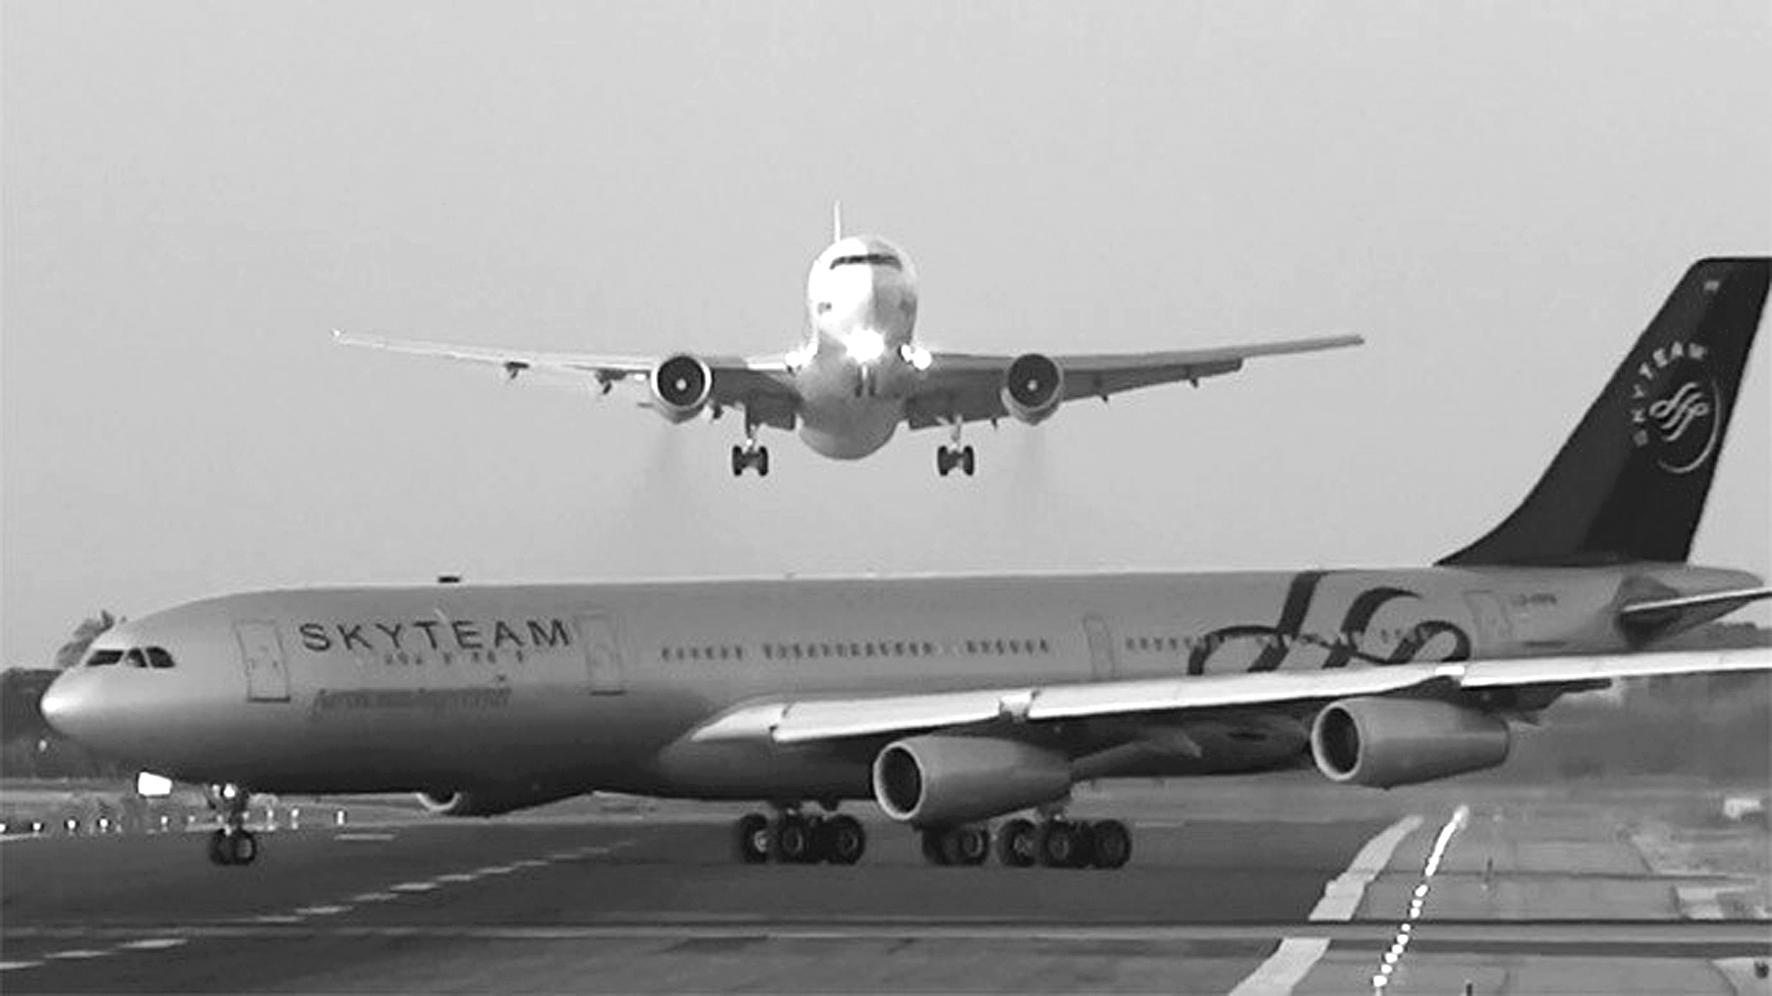airplane: (33, 247, 1772, 874), (316, 198, 1369, 479)
